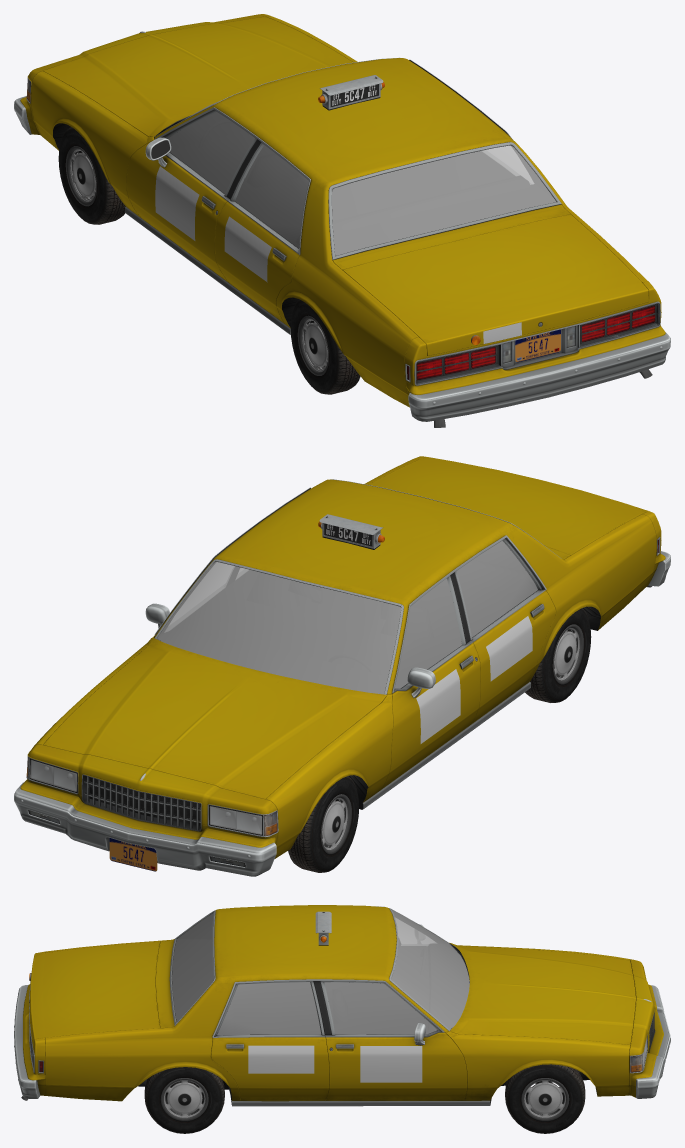
Rendered from chevroletCapriceTaxi.FBX.
3 views of the same model, one above another, from view 1: azimuth 30°, elevation 25°; view 2: azimuth 150°, elevation 25°; view 3: azimuth 270°, elevation 25° (orthographic). The views are drawn at different scales.
Visible parts, largest first — view 1: Body, Glass, Interior, Parts, signs, FL_wheel, Lights, RL_wheel, taxiSign, licencePlates; view 2: Body, Glass, Interior, Parts, FL_wheel, signs, RL_wheel, Lights, taxiSign, licencePlates; view 3: Body, Glass, Interior, Parts, FR_wheel, RR_wheel, signs, taxiSign.
Boxes of the visible parts, x1,y1,x2,y2 form: Body: (20,14,665,407); Glass: (168,101,556,255); Interior: (168,112,555,255); Parts: (14,31,670,427); signs: (155,166,521,343); FL_wheel: (58,127,125,224); Lights: (26,78,656,381); RL_wheel: (290,299,360,394); taxiSign: (318,75,480,345); licencePlates: (515,329,560,362); Body: (20,456,665,858); Glass: (30,541,537,834); Interior: (158,541,537,693); Parts: (14,479,670,876); FL_wheel: (288,776,359,872); signs: (416,616,532,743); RL_wheel: (525,608,591,702); Lights: (26,539,658,867); taxiSign: (318,514,384,549); licencePlates: (109,838,157,871); Body: (23,905,663,1101); Glass: (172,910,647,1068); Interior: (172,910,469,1034); Parts: (14,906,670,1106); FR_wheel: (505,1064,585,1133); RR_wheel: (144,1067,224,1133); signs: (29,981,422,1082); taxiSign: (29,911,331,980).
Bounding box in the file's own units: 212 × 150 × 540.
